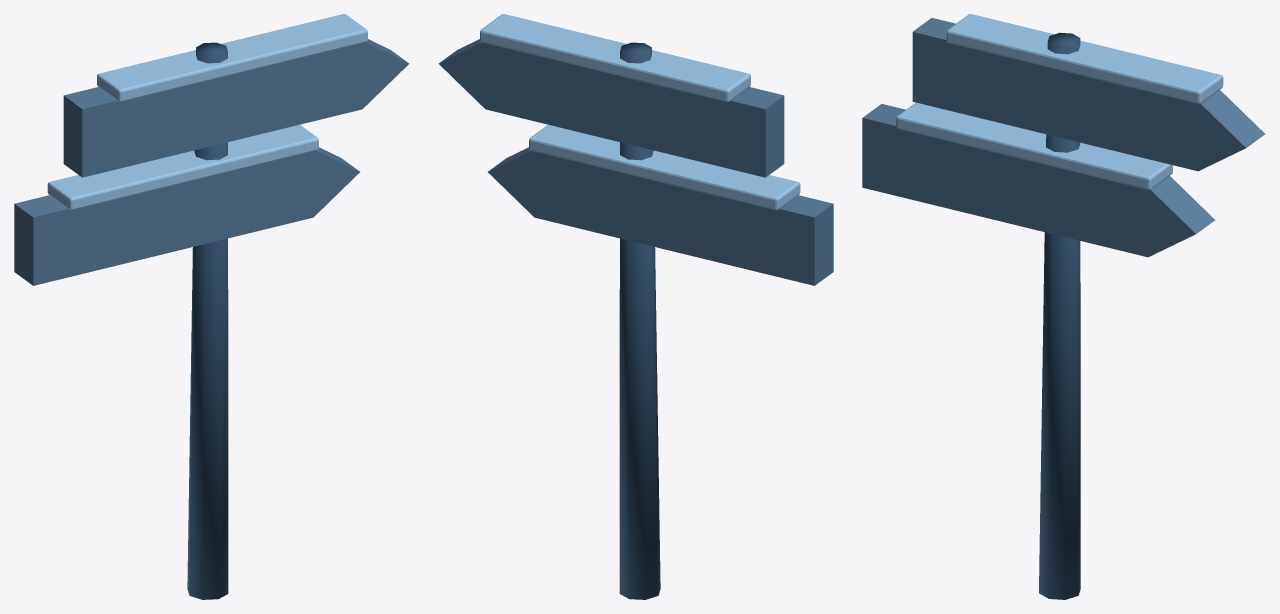
The model's file is way_sign.glb.
3 renders of one model, left to right at view 1: azimuth 30°, elevation 25°; view 2: azimuth 150°, elevation 25°; view 3: azimuth 330°, elevation 25°, orthographic. The views are drawn at different scales.
Parts seen in each view (by area): view 1: Near; view 2: Near; view 3: Near.
Part boxes in pixels (x1,y1,x2,y2): Near: [14, 14, 409, 599]; Near: [438, 14, 833, 599]; Near: [862, 14, 1264, 599].
Bounding box in the file's own units: 1.84 × 2.53 × 0.2.
